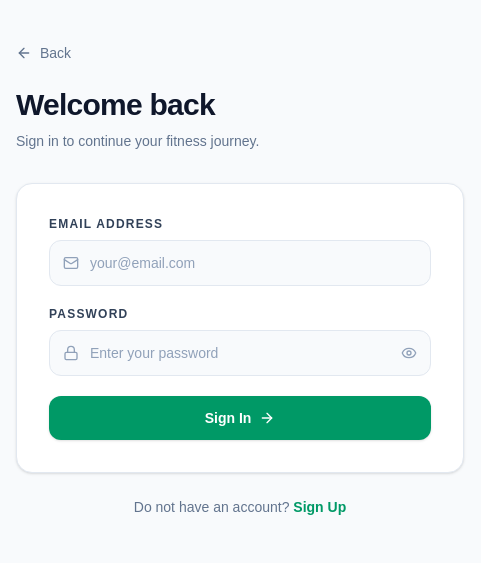
Test case: SignIn › should show an error on invalid credentials
In the field with placeholder "your@email.com": (240,263) [49, 240, 431, 286], type "jane@example.com"
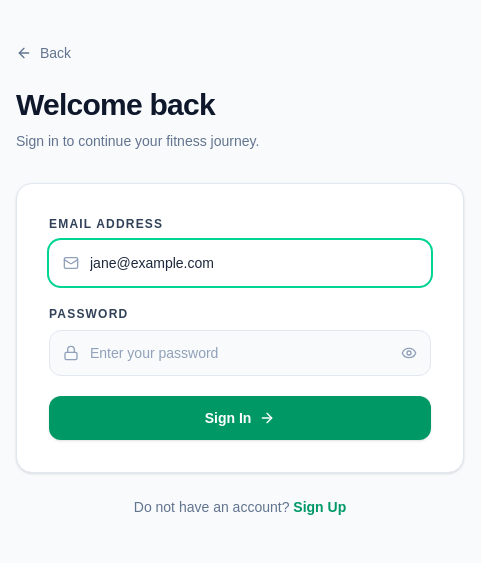
In the password field with placeholder "Enter your password": (240,353) [49, 330, 431, 376], type "wrongpassword"
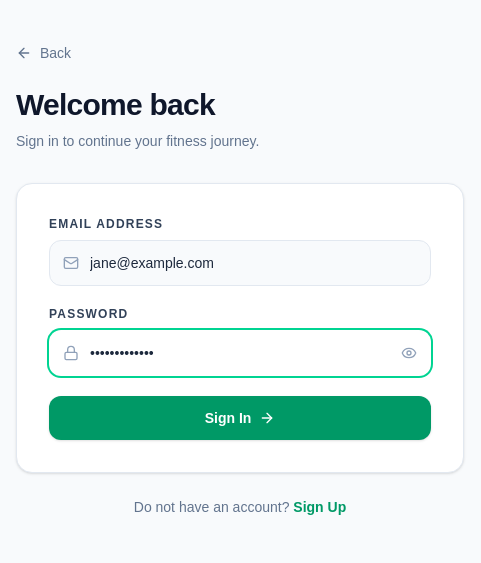
Click the button "Sign In": (240,418) [49, 396, 431, 440]
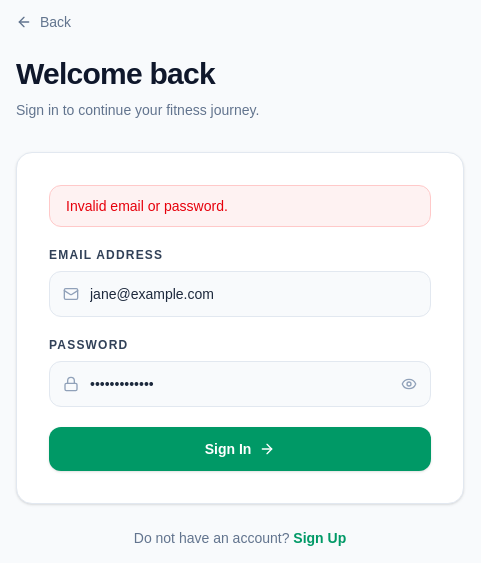
Expected: the text "Invalid email or password." is shown, [49, 185, 431, 227]
